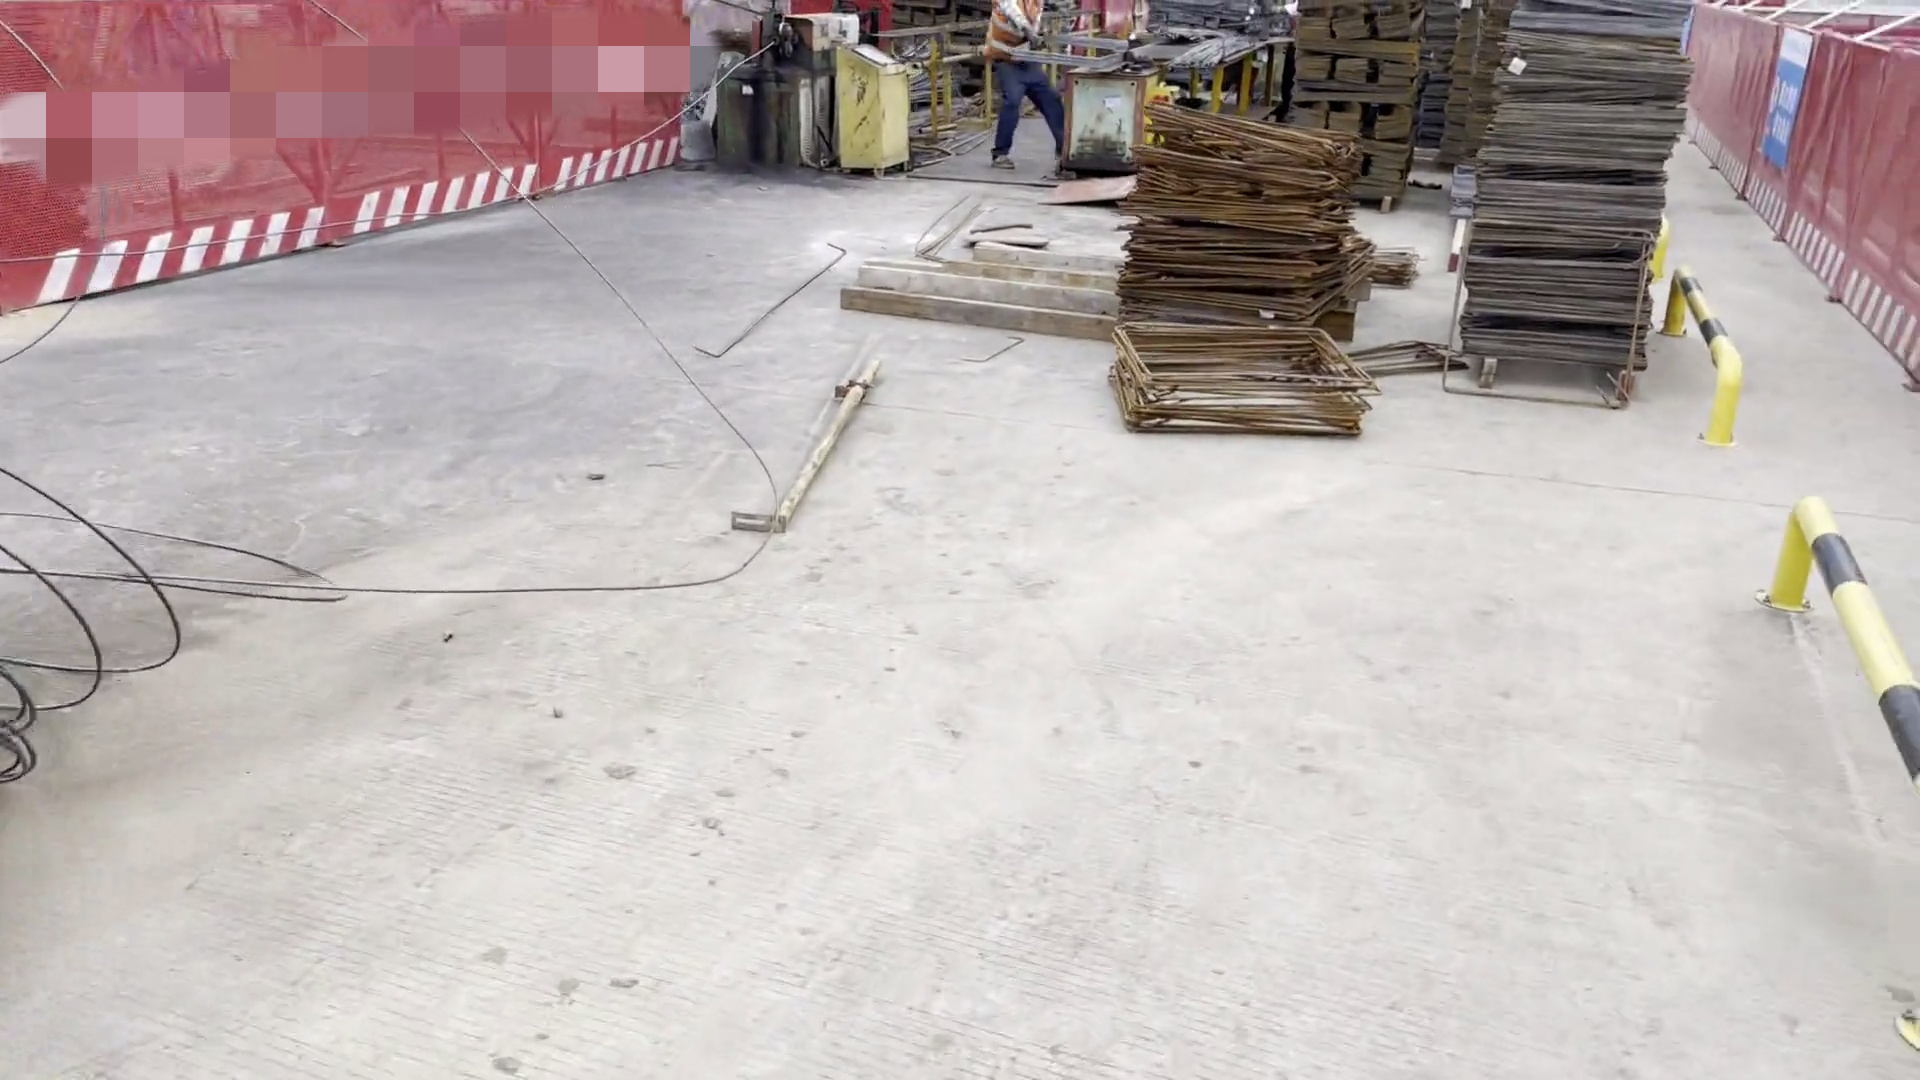cutter: (1050, 65, 1160, 177)
ebox: (823, 31, 922, 182)
fence: (1, 1, 696, 319), (1691, 4, 1920, 403)
person: (962, 1, 1094, 169)
slogan: (1760, 23, 1819, 176)
vest: (972, 1, 1066, 72)
